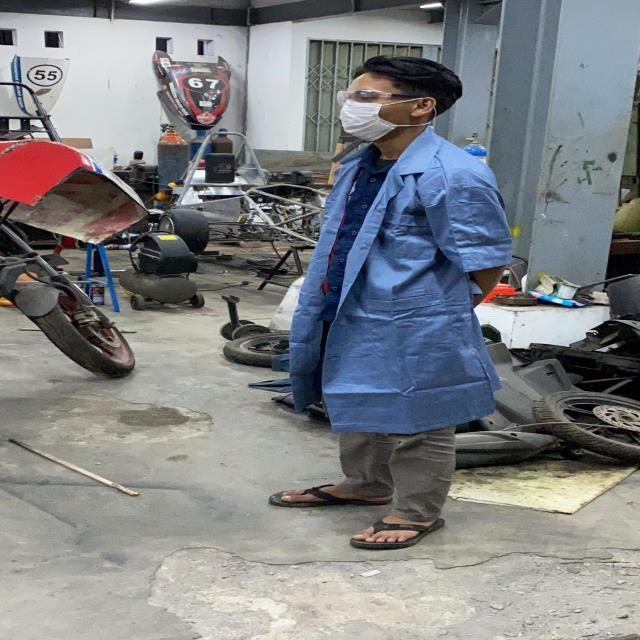glasses: (330, 87, 416, 106)
